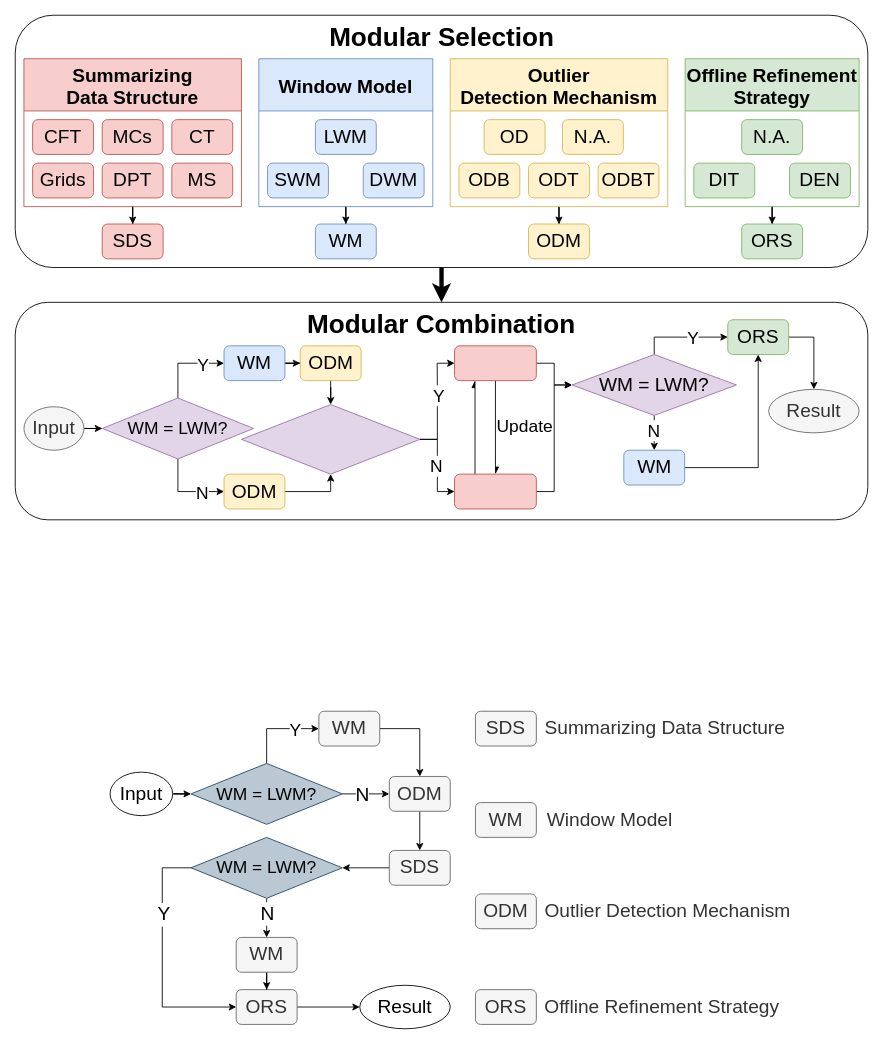
This 883x1044 diagram has some shape labels left out. Each missing label, with the centre of its shape:
Input = Outlier?: the point at 330,439
SDS - C: the point at 495,491
SDS - O: the point at 495,363
